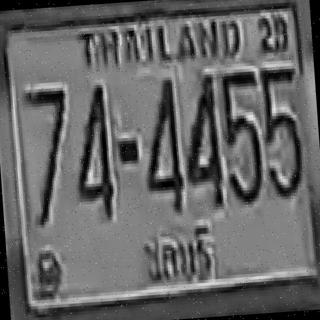N04: (68, 81, 115, 219), (138, 76, 184, 213), (178, 72, 224, 207)
N05: (257, 65, 304, 197), (219, 68, 264, 203)
N07: (24, 84, 73, 225)
P13: (134, 217, 227, 295)
